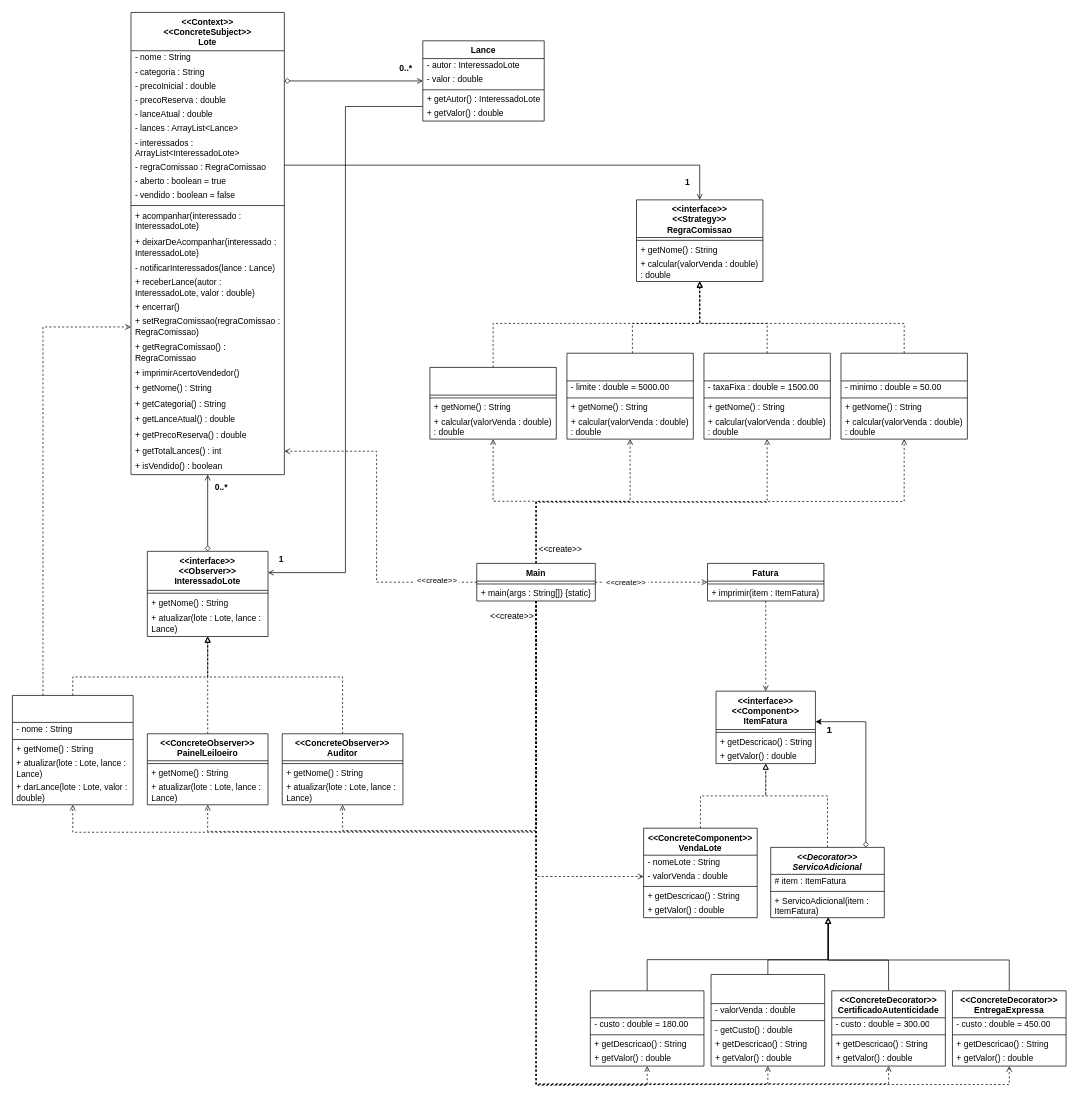
Some shapes in this 1078 by 1104 pixel diagram are drawn without their labels. The box of each missing label's shape, as (x1, y1, x2, y2) in pixels:
<<ConcreteDecorator>> EmbalagemEspecial: (590, 990, 704, 1066)
<<ConcreteDecorator>> SeguroTransporte: (710, 974, 825, 1066)
<<ConcreteObserver>> Participante: (12, 695, 133, 805)
<<ConcreteStrategy>> ComissaoArte: (429, 367, 556, 439)
<<ConcreteStrategy>> ComissaoEletronicos: (840, 353, 967, 439)
<<ConcreteStrategy>> ComissaoImoveis: (703, 353, 830, 439)
<<ConcreteStrategy>> ComissaoVeiculos: (566, 353, 693, 439)
